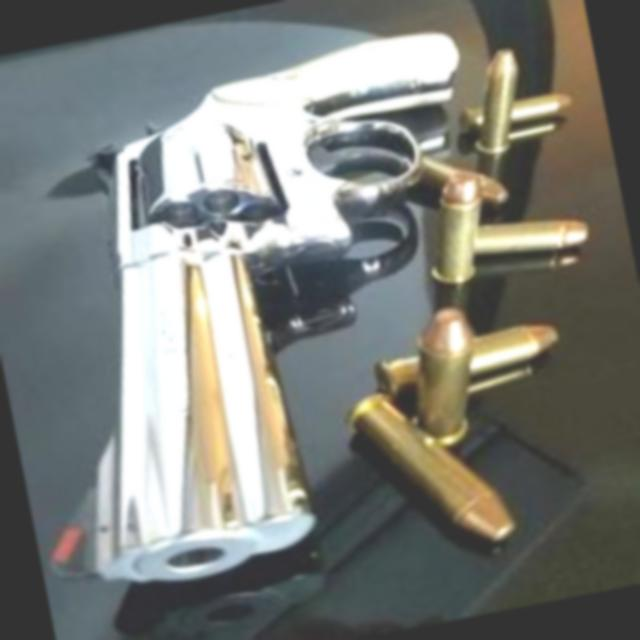revolver: (0, 0, 572, 613)
